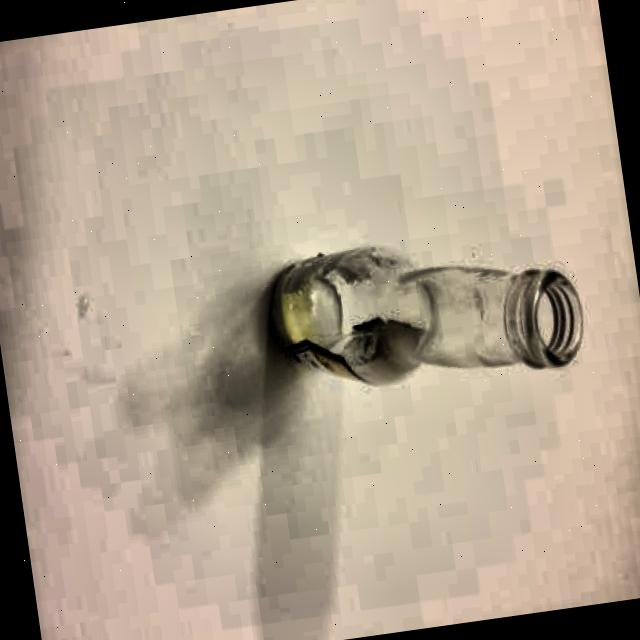glass: (261, 214, 591, 408)
